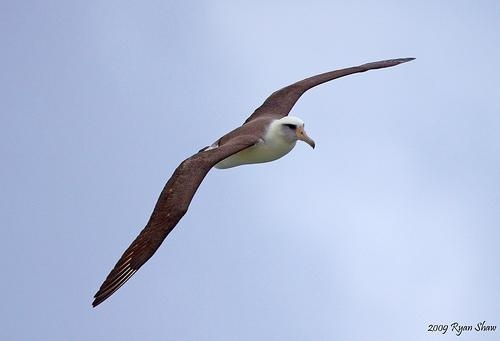bird: (90, 56, 418, 309)
